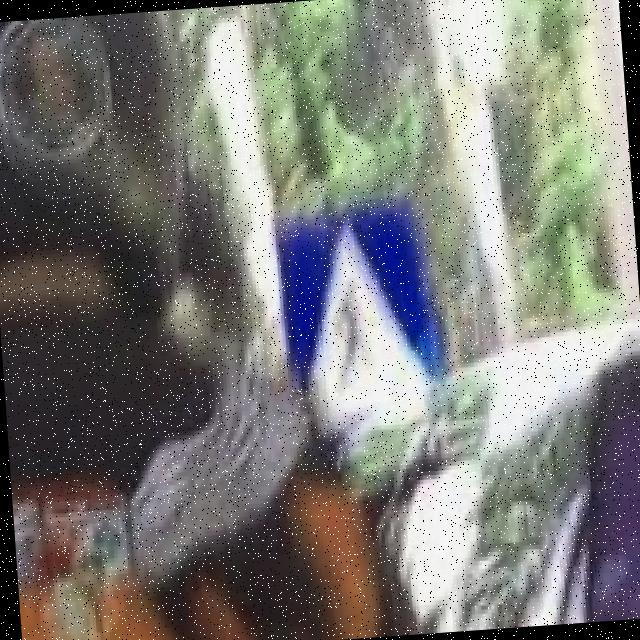Przejscie dla pieszych: (277, 212, 447, 408)
